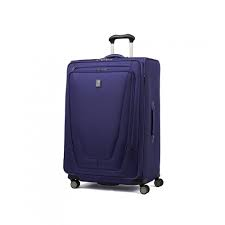suitcase: (59, 33, 164, 194)
